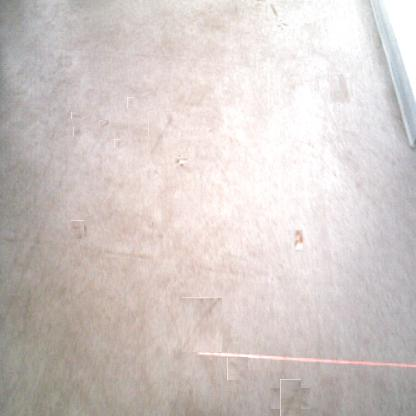dirty: (292, 230, 303, 250), (176, 155, 187, 166)
mark: (182, 297, 222, 352), (148, 111, 172, 155), (276, 384, 306, 414), (329, 73, 350, 104), (227, 357, 249, 380), (69, 222, 86, 238), (268, 3, 279, 18), (276, 19, 288, 30), (99, 120, 109, 130), (73, 126, 82, 136), (206, 125, 215, 135), (71, 112, 82, 120), (127, 97, 134, 108), (156, 233, 164, 241), (114, 139, 121, 148), (148, 219, 154, 229)
